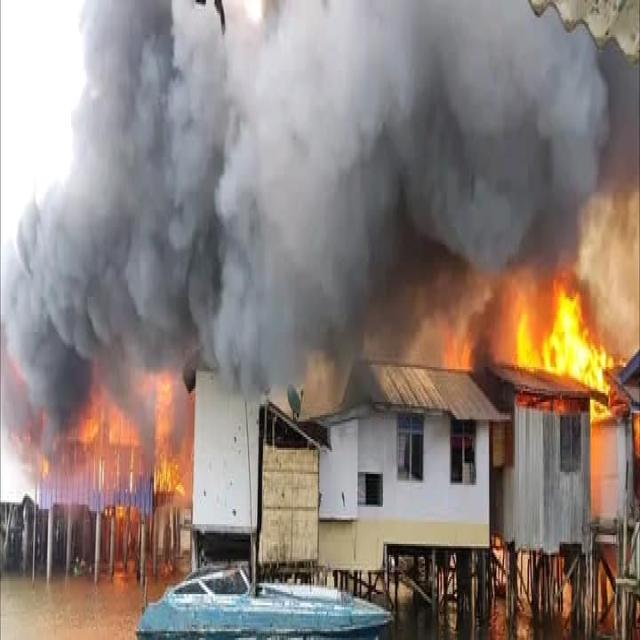Fire: (11, 378, 192, 522), (506, 260, 624, 376)
Smoke: (249, 7, 640, 255), (82, 6, 255, 358), (177, 197, 507, 360), (0, 194, 132, 406)
